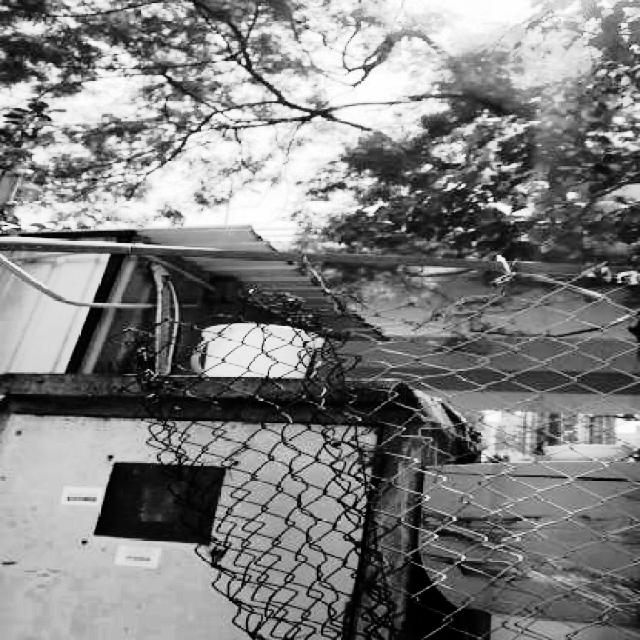anomaly-fence: (2, 221, 348, 640)
